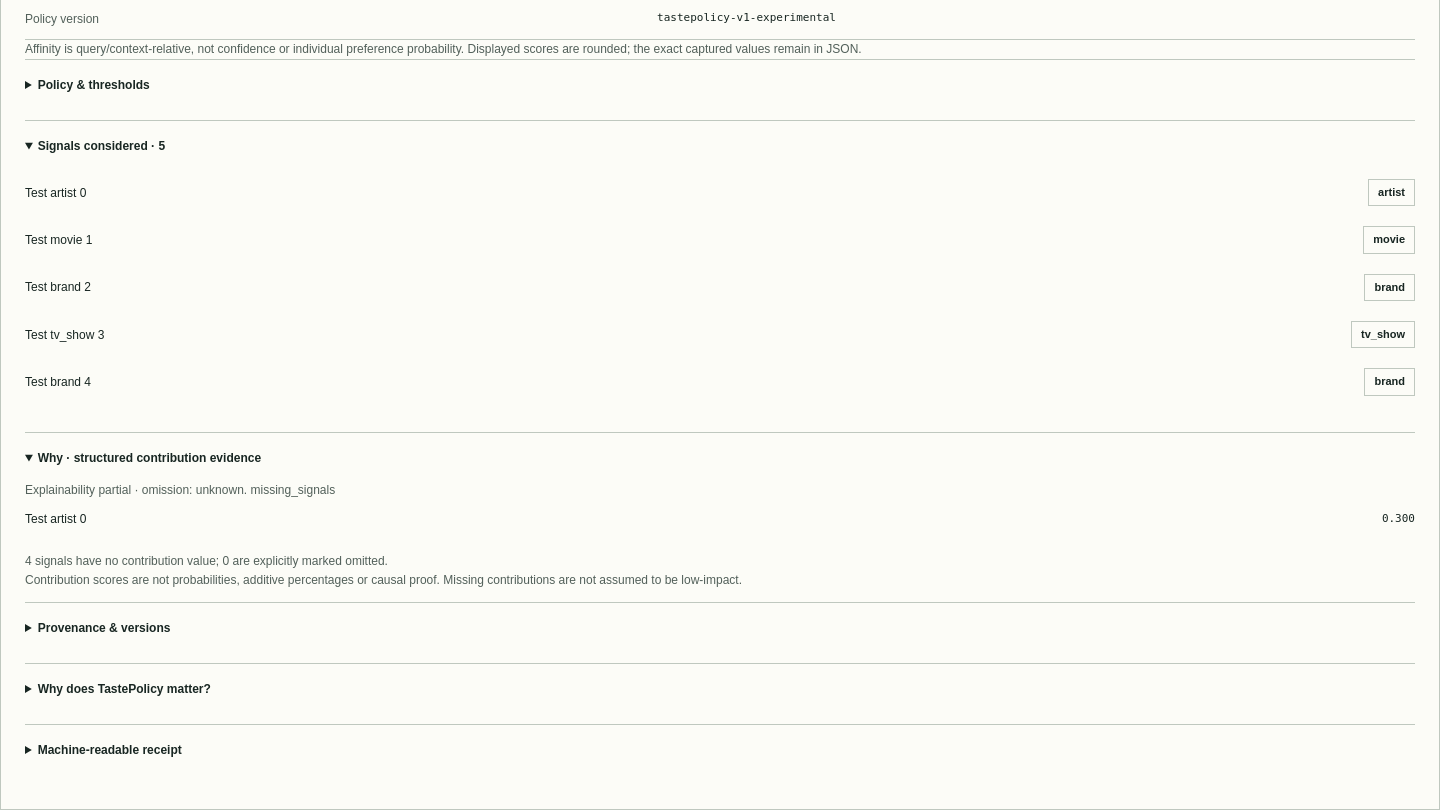
it: labels synthetic receipt provenance explicitly
(page scrolled)
Click the heading "Why does TastePolicy matter?": (124, 689) top-left (38, 682), bottom-right (211, 696)
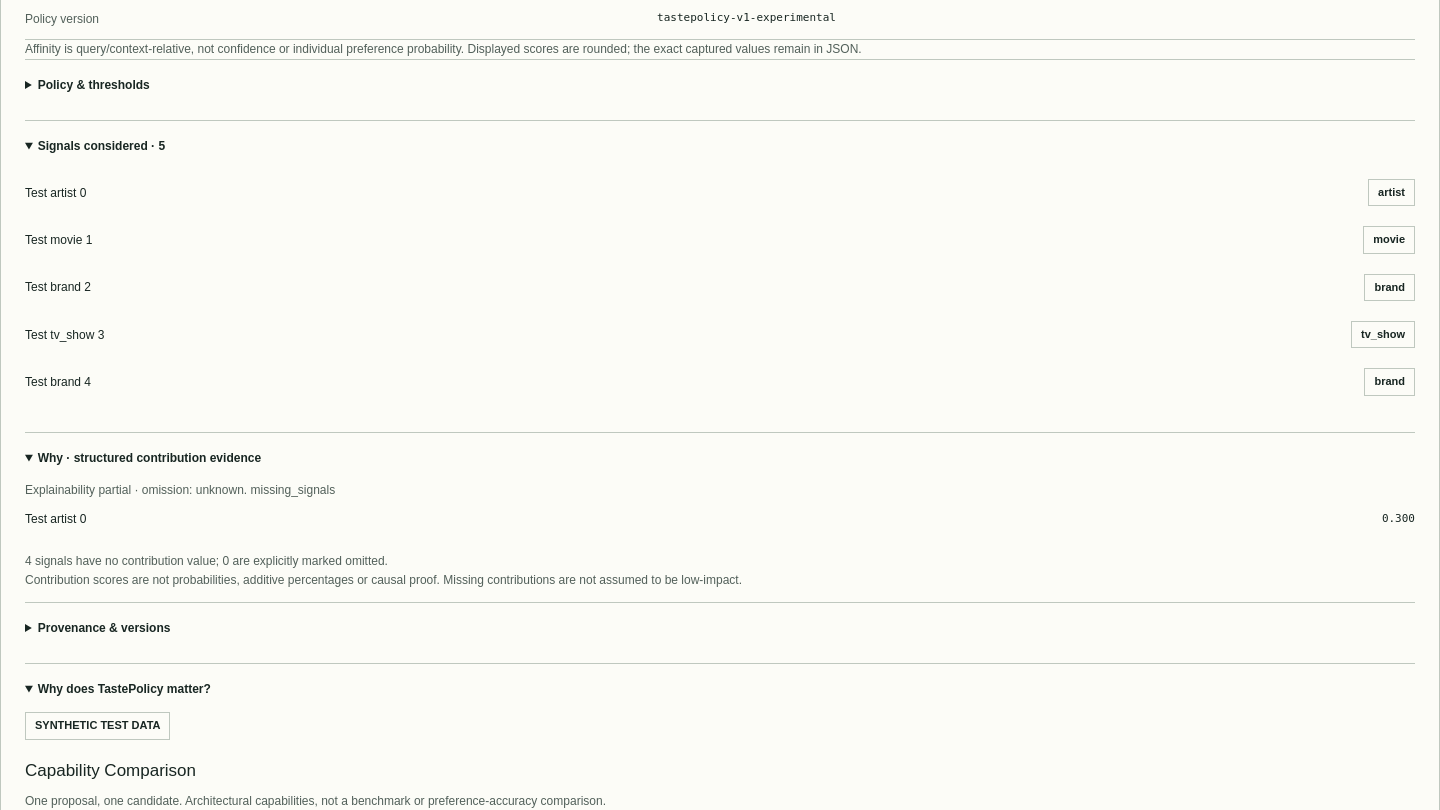
Now the text "SYNTHETIC TEST DATA" is shown, box top-left (25, 712), bottom-right (170, 740)
